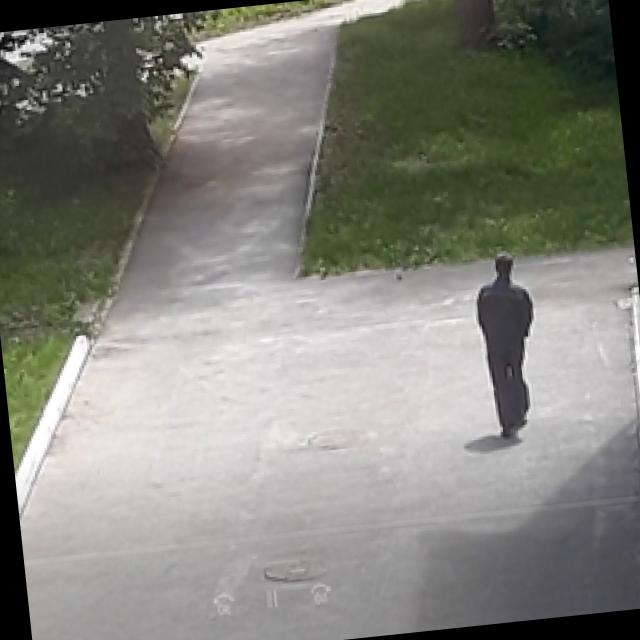person: (469, 248, 548, 441)
